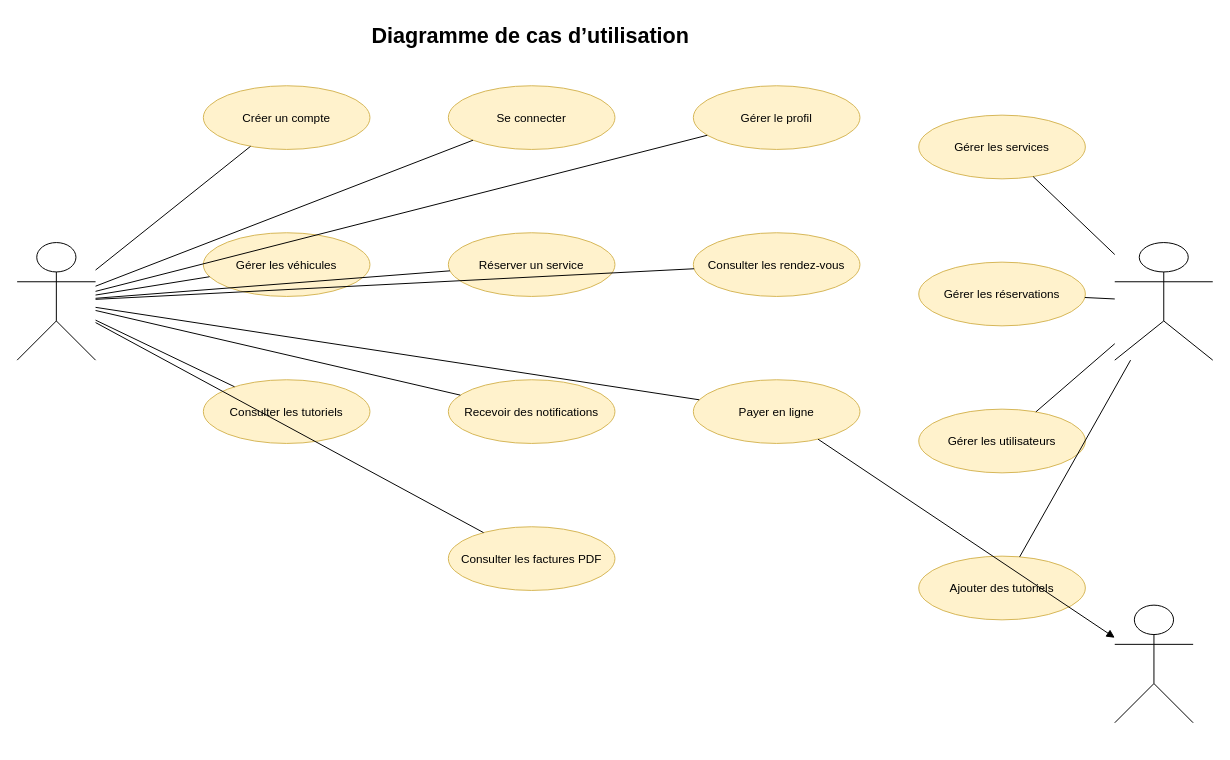
Some shapes in this 1230 by 760 pixel diagram are drawn without their labels. Each missing label, with the centre of its shape:
"Administrateur" goes at (x=1163, y=301).
"Stripe" goes at (x=1153, y=663).
"Utilisateur" goes at (x=56, y=301).
